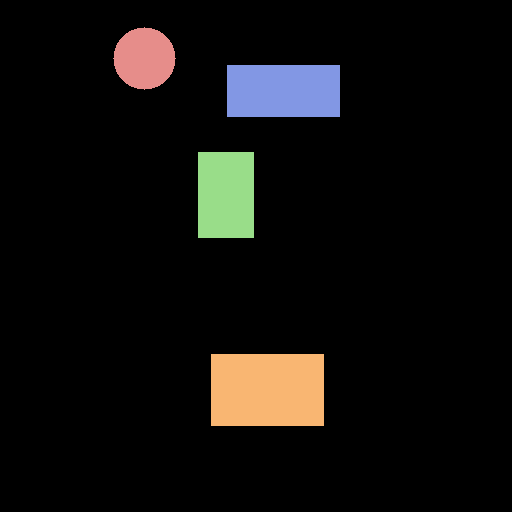circle: (113, 27, 175, 89)
rectangle: (211, 354, 323, 425), (227, 65, 339, 116), (198, 152, 253, 237)
